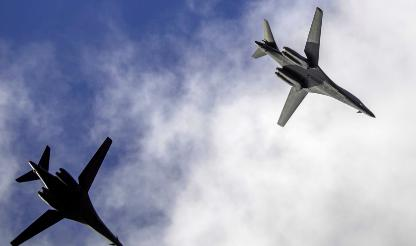AV8B: (252, 8, 376, 128), (10, 136, 129, 245)
